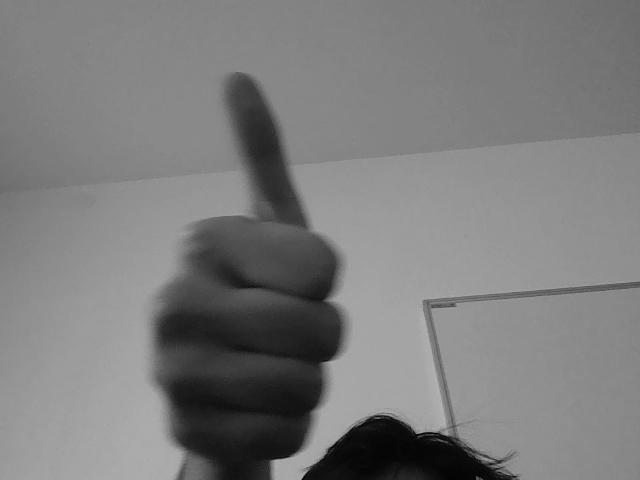good: (136, 55, 353, 467)
